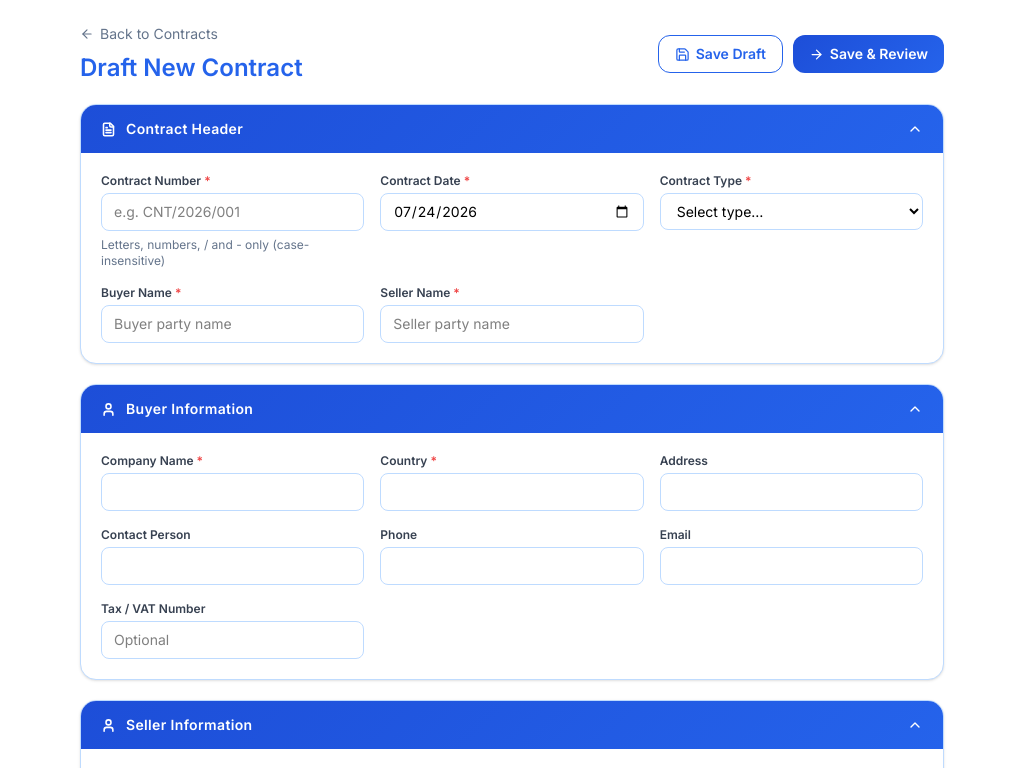
Scenario: ContractDraftFormPage › shows a validation error when saving and reviewing an empty contract
The width and height of the screenshot is (1024, 768).
Click the button "Save & Review": (868, 54) top-left (793, 35), bottom-right (944, 73)
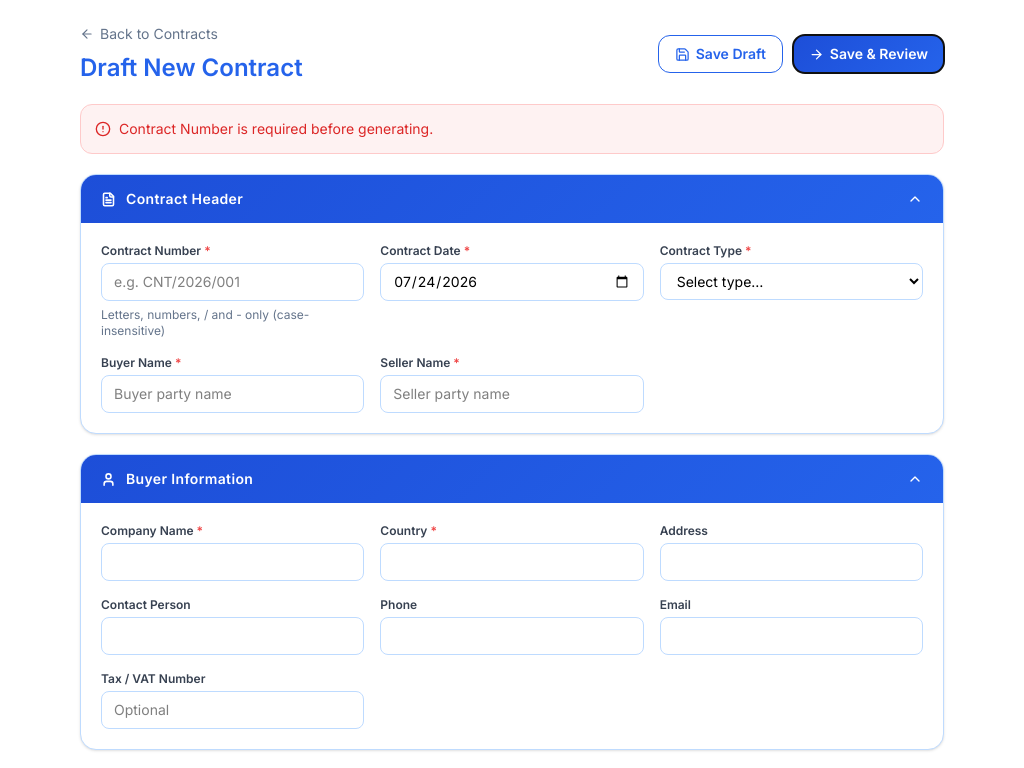
Now the text "Contract Number is required before generating." is shown, box top-left (119, 119), bottom-right (433, 139)
